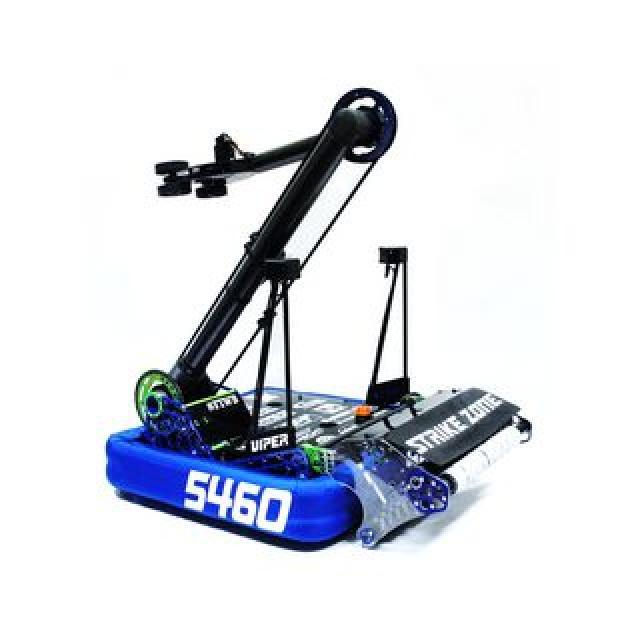robot: (105, 83, 534, 567)
